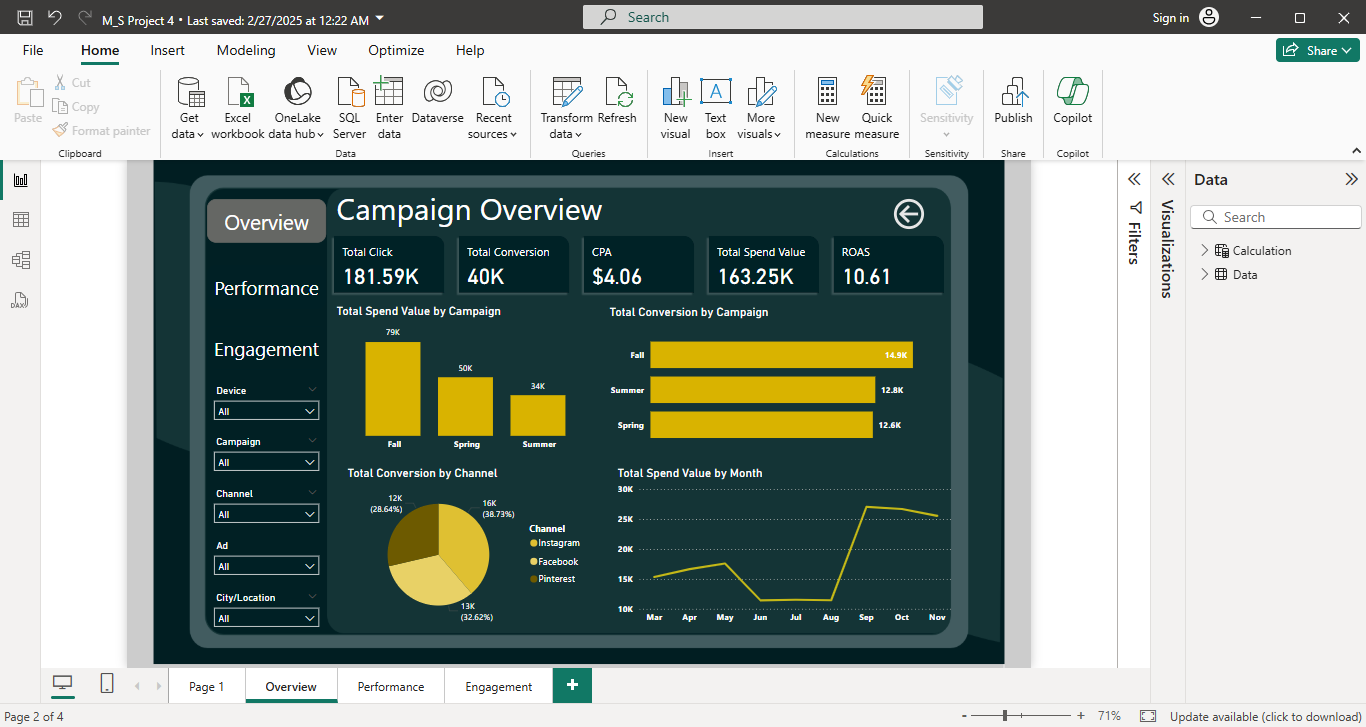

What the dashboard file says about the page in this screenshot:
{"tool":"powerbi","page":{"name":"Overview","canvas":[1280,720],"ordinal":1},"visuals":[{"type":"cardVisual","fields":{"Data":["Calculation.Total Click","Calculation.Total Conversion","Calculation.CPA","Calculation.Total Spend Value","Calculation.ROAS"]},"box":[282,96.4,891.5,103.5],"z":0},{"type":"columnChart","fields":{"Y":["Calculation.Total Spend Value"],"Category":["Data.Campaign"]},"box":[292,204.1,379.8,216.9],"z":1000},{"type":"pieChart","fields":{"Y":["Calculation.Total Conversion"],"Category":["Data.Channel"]},"box":[307.6,433.7,348.7,232.4],"z":2000},{"type":"clusteredBarChart","fields":{"Category":["Data.Campaign"],"Y":["Calculation.Total Conversion"]},"box":[678.9,205.5,476.2,215.4],"z":3000},{"type":"textbox","box":[292,34,528.7,83.6],"z":4000},{"type":"actionButton","box":[113.4,55.3,168.7,62.4],"z":5000},{"type":"actionButton","box":[113.4,148.8,168.7,62.4],"z":6000},{"type":"actionButton","box":[113.4,235.3,168.7,62.4],"z":7000},{"type":"actionButton","box":[1081.4,49.6,117.6,53.9],"z":8000},{"type":"slicer","fields":{"Values":["Data.Campaign"]},"box":[113.4,385.5,168.7,73.7],"z":9000},{"type":"slicer","fields":{"Values":["Data.Ad"]},"box":[113.4,532.9,168.7,73.7],"z":10000},{"type":"slicer","fields":{"Values":["Data.City/Location"]},"box":[113.4,606.6,168.7,73.7],"z":11000},{"type":"slicer","fields":{"Values":["Data.Channel"]},"box":[113.4,459.2,168.7,73.7],"z":12000},{"type":"slicer","fields":{"Values":["Data.Device"]},"box":[113.4,313.2,168.7,73.7],"z":13000},{"type":"lineChart","fields":{"Category":["Data.Month"],"Y":["Calculation.Total Spend Value"]},"box":[690.2,433.7,483.3,232.4],"z":14000}]}

Visuals, with their boxes on the page's 1280x720 design canvas (x1, y1, x2, y2). These are canvas units, not pixel positions in the 1366x727 screenshot, which may show the page scaled, cropped or inside an application window:
cardVisual - Calculation.Total Click x Calculation.Total Conversion: select_region(282, 96, 1174, 200)
columnChart - Calculation.Total Spend Value x Data.Campaign: select_region(292, 204, 672, 421)
pieChart - Calculation.Total Conversion x Data.Channel: select_region(308, 434, 656, 666)
clusteredBarChart - Data.Campaign x Calculation.Total Conversion: select_region(679, 206, 1155, 421)
textbox: select_region(292, 34, 821, 118)
actionButton: select_region(113, 55, 282, 118)
actionButton: select_region(113, 149, 282, 211)
actionButton: select_region(113, 235, 282, 298)
actionButton: select_region(1081, 50, 1199, 104)
slicer - Data.Campaign: select_region(113, 386, 282, 459)
slicer - Data.Ad: select_region(113, 533, 282, 607)
slicer - Data.City/Location: select_region(113, 607, 282, 680)
slicer - Data.Channel: select_region(113, 459, 282, 533)
slicer - Data.Device: select_region(113, 313, 282, 387)
lineChart - Data.Month x Calculation.Total Spend Value: select_region(690, 434, 1174, 666)
